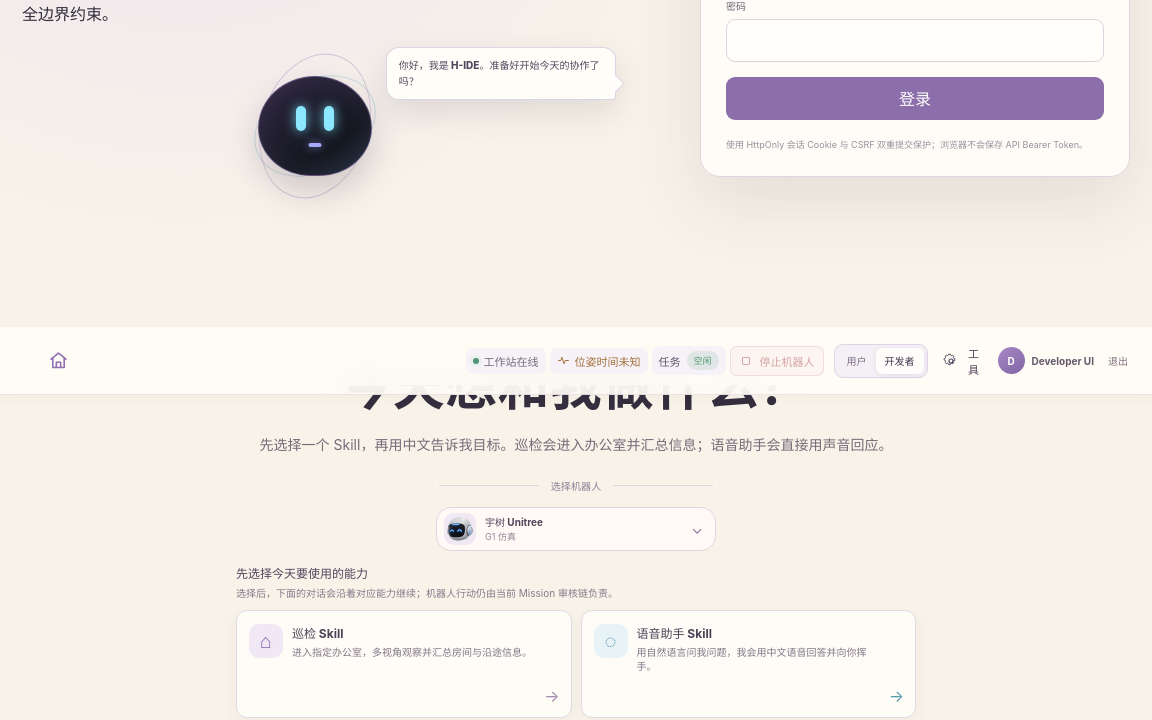
control console › keeps motion behind a high-level command button and exposes stop
(page scrolled)
Check: the button "停止机器人" is shown, box [730, 346, 824, 376]
Check: the text "工具" is shown, box [968, 346, 979, 376]
What coordinates should you click on to do the following:
click the button with aria-label "打开工具"
I would click on:
 (962, 360)
Its box is [934, 342, 992, 380].
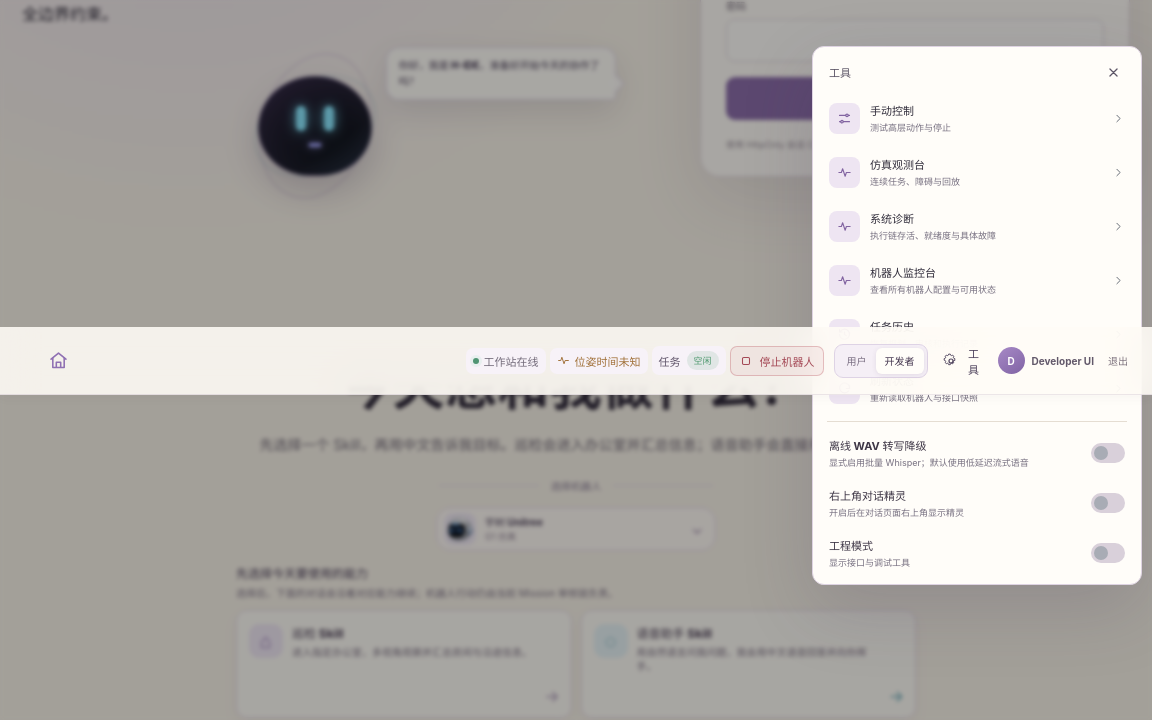
Check: the button "系统诊断 执行链存活、就绪度与具体故障" is shown, box [820, 200, 1134, 252]
What coordinates should you click on to do the following:
click the button "手动控制 测试高层动作与停止"
I would click on:
 (844, 118)
Its box is [820, 92, 1134, 144].
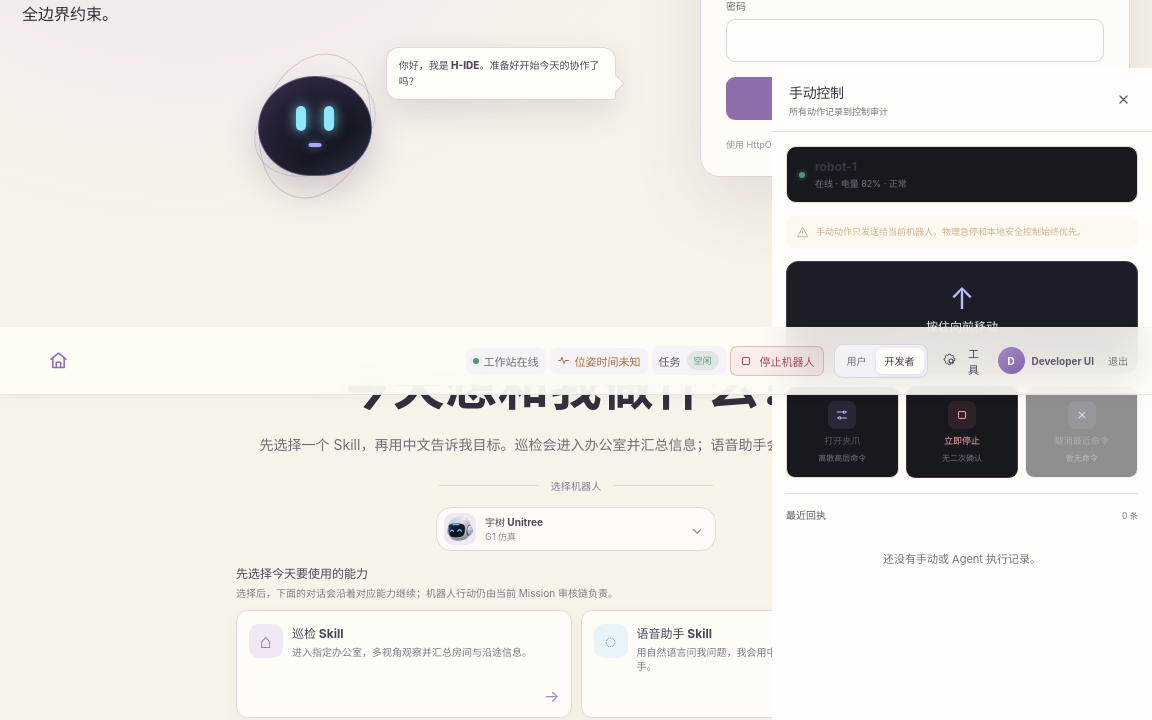
Check: the button "立即停止 无二次确认" is shown, box [906, 386, 1018, 478]
Check: the button "↑ 按住向前移动 松开立即发送停止" is shown, box [786, 261, 1138, 373]
